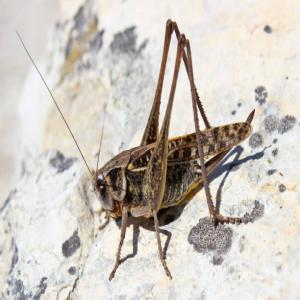locust: (77, 20, 270, 262)
